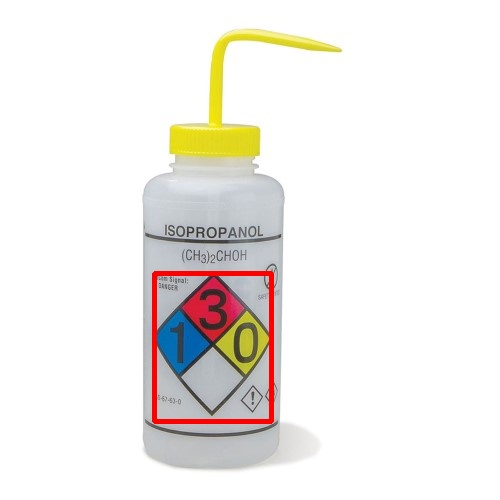nfpa: (154, 273, 271, 421)
